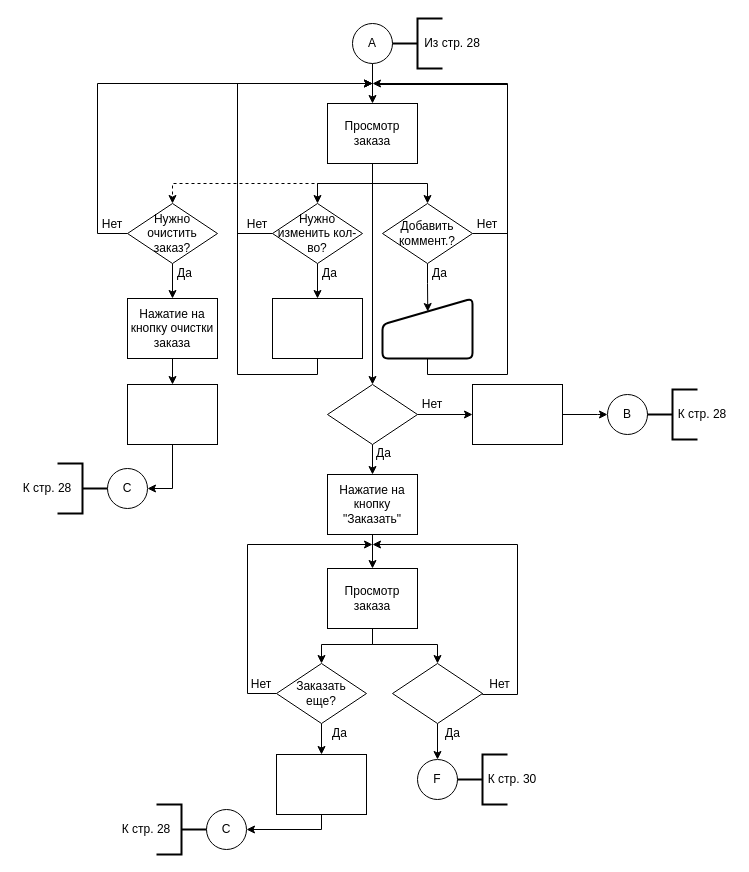
The diagram is 749 pixels wide and 872 high, and some of its shapes have lost their labels. The centre of each missing label's shape, as x and y in pixels:
Ввод комментария: [427,328]
Заказать блюда?: [372,414]
Нажатие на кнопку "Добавить блюда": [321,784]
Нажатие на кнопку возврата в меню: [517,414]
Нажатие на кнопку изменения количества: [317,328]
Оформить чек?: [437,693]
Подтверждение очистки: [172,414]
